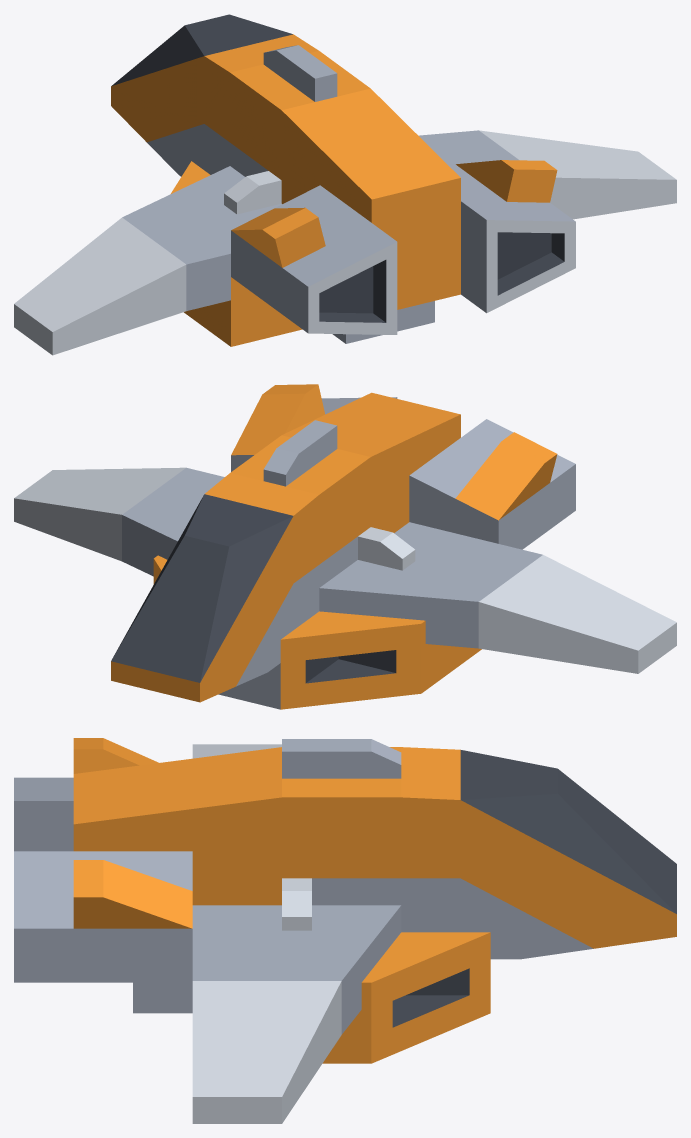
File: k-craft-speeder-d.glb
The picture shows the model from 3 angles, top to bottom: view 1: azimuth 30°, elevation 25°; view 2: azimuth 150°, elevation 25°; view 3: azimuth 270°, elevation 25°; orthographic projection. The views are drawn at different scales.
Parts seen in each view (by area): view 1: craft_speederD; view 2: craft_speederD; view 3: craft_speederD.
Boxes of the visible parts, bbox=[...] form: craft_speederD: bbox=[14, 14, 676, 355]; craft_speederD: bbox=[14, 384, 676, 709]; craft_speederD: bbox=[14, 738, 676, 1123].
Bounding box in the file's own units: 2.8 × 0.9 × 2.23.
